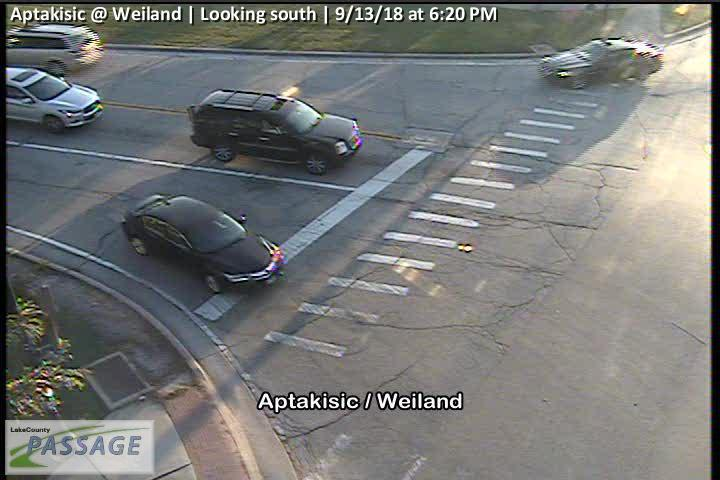SUV: (186, 89, 363, 175), (4, 25, 104, 76)
Sedan: (122, 194, 286, 294), (539, 37, 664, 89), (6, 68, 106, 133)
